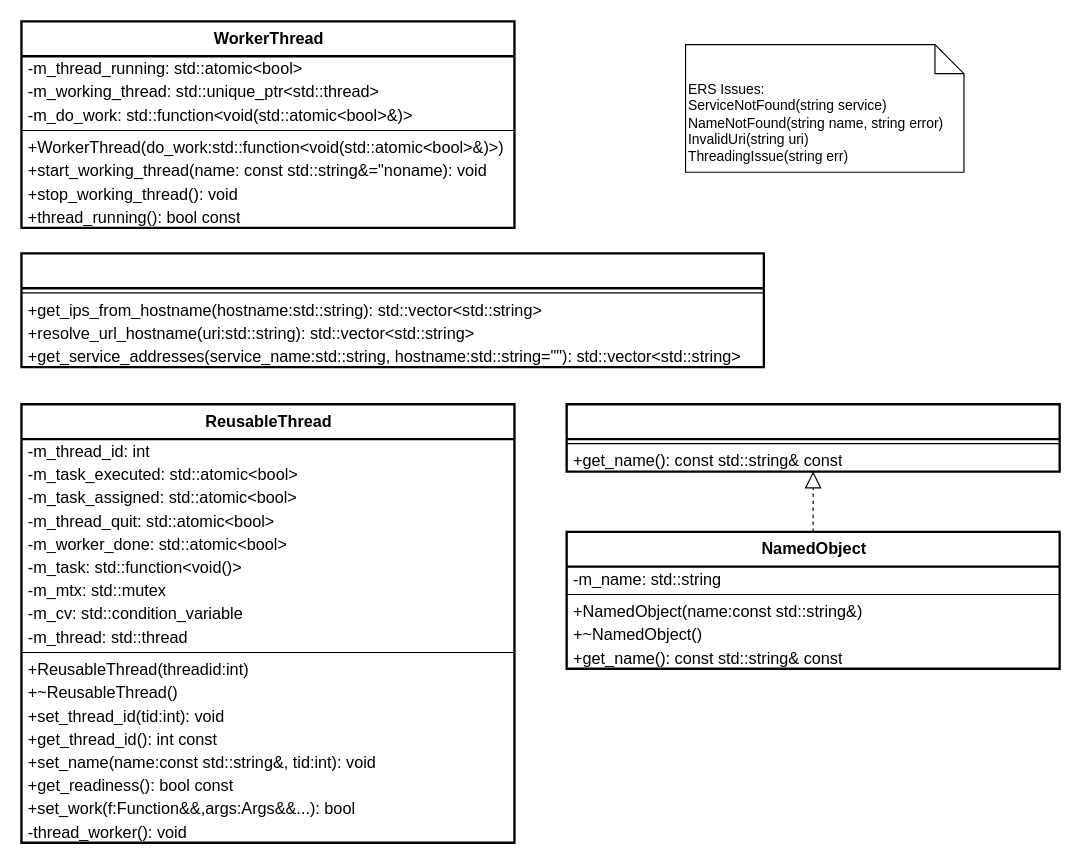
The diagram is 1080 pixels wide and 863 high, and some of its shapes have lost their labels. The shapes that lost their labels are listed below. From the top down, each one's box as (x1, y1, x2, y2) in pixels, then its label:
(20, 252, 764, 368): Resolver
(565, 403, 1060, 472): Named
